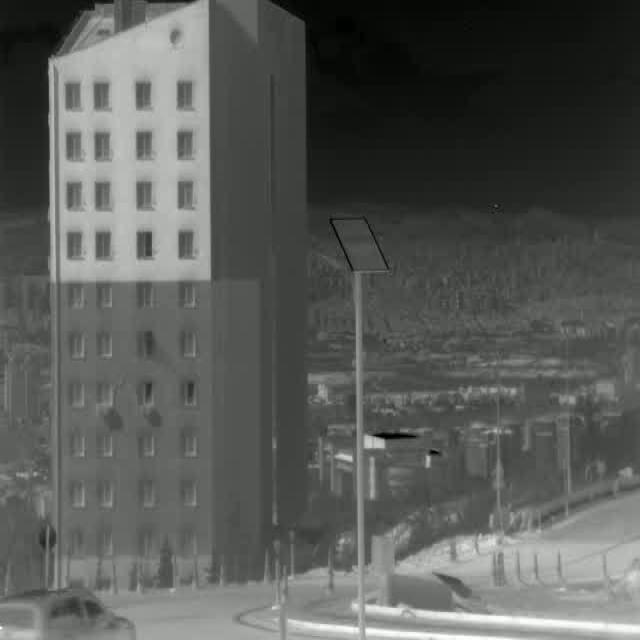Car: (0, 577, 135, 640)
